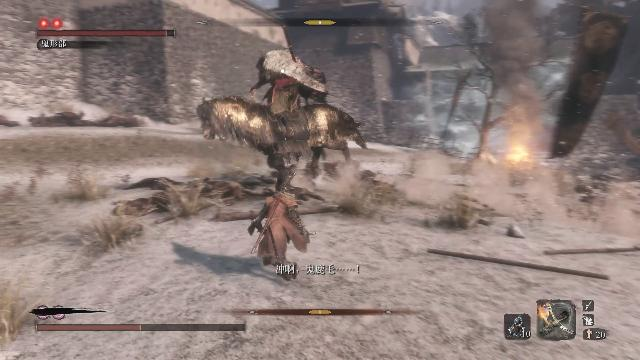sk: (248, 174, 311, 282)
